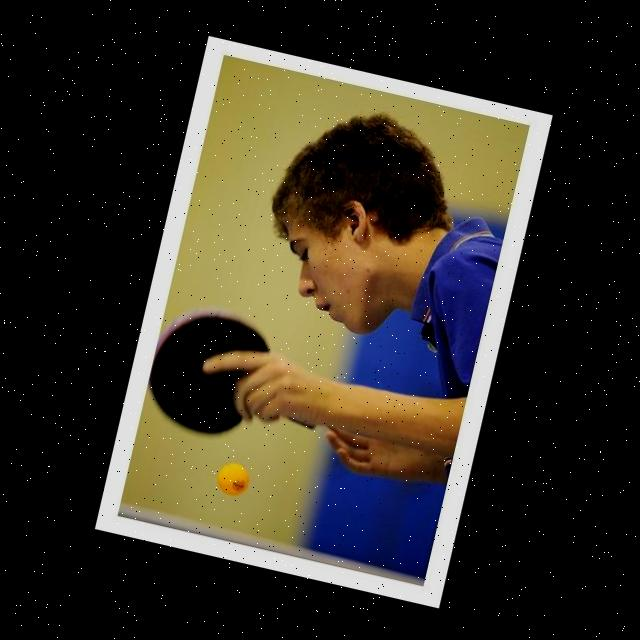ping-pong-ball: (211, 456, 254, 499)
